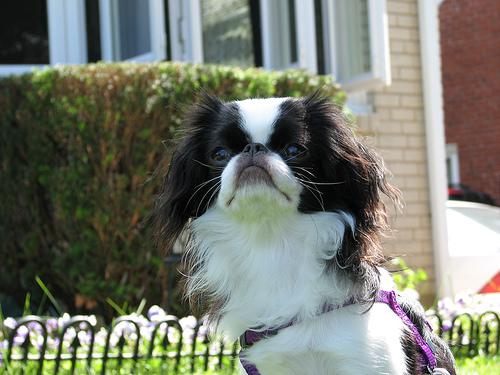dog-japanese_chin: (169, 94, 373, 225)
